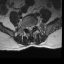CCS_normal: (29, 24, 31, 32)
LFS_normal: (33, 22, 35, 28)
LLS_normal: (31, 23, 33, 31)
RFS_normal: (25, 24, 27, 29)
RLS_normal: (27, 24, 29, 31)
